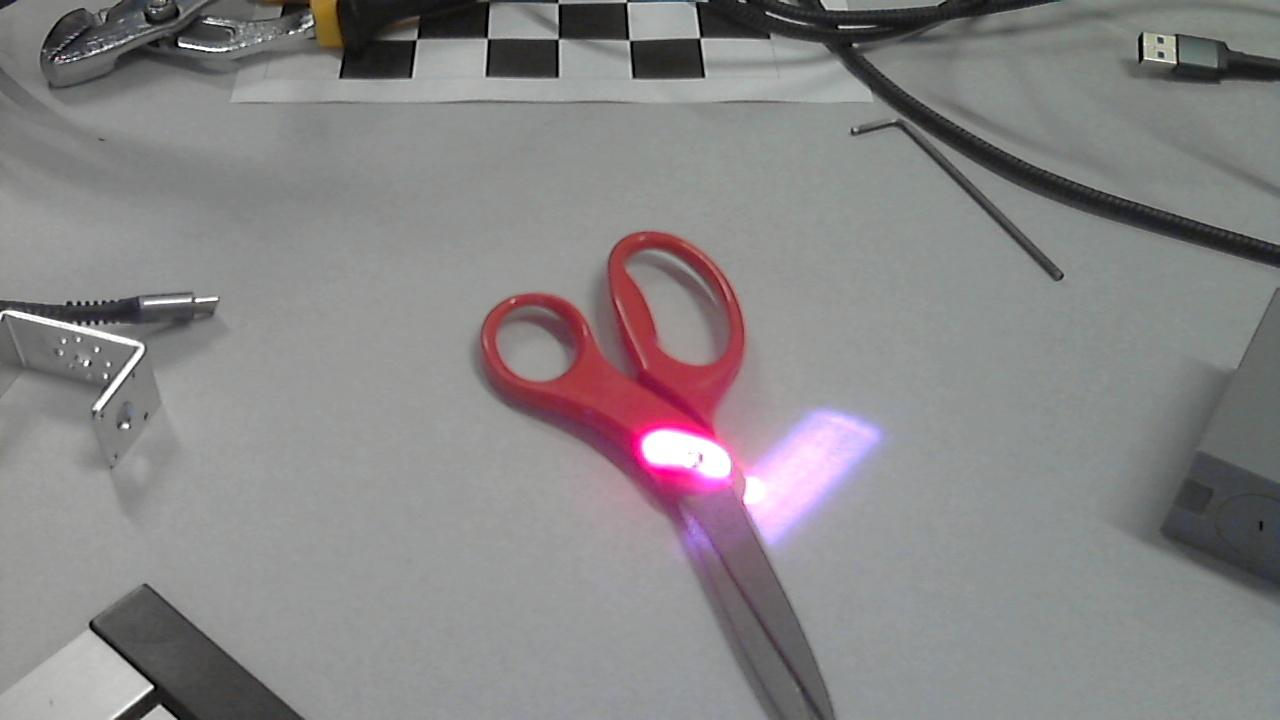Object scissors - Material plastic - Pdfname tYexGlkiIXWc: (634, 389, 772, 512)
